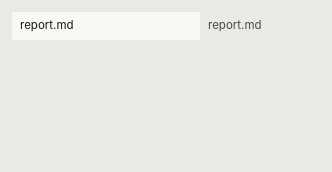
Test: TabStrip › shows the directory for duplicate names even when the label fits
Focus the 1st tab with class "file-tab" at (92, 26), box [12,12,172,40]
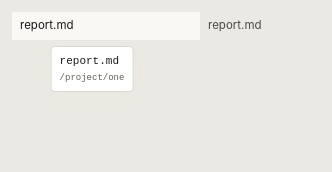
Now the tooltip "report.md /project/one" is shown, box [51,46,133,92]
